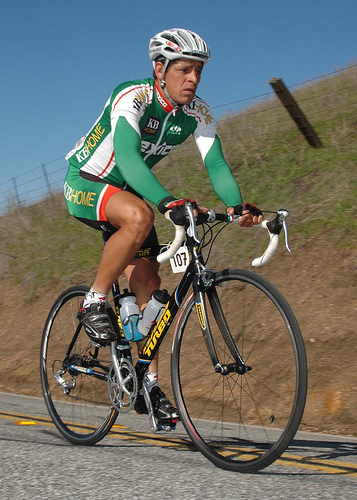without_mask: (151, 43, 209, 108)
